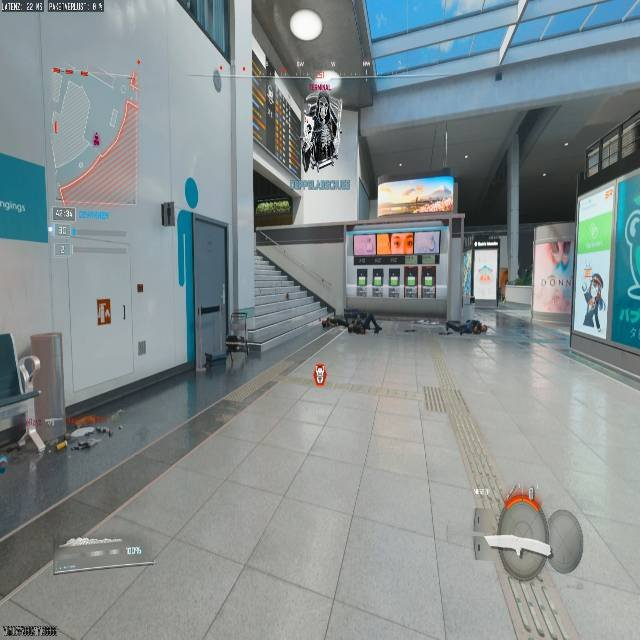head: (502, 484, 545, 512), (592, 272, 601, 282)
player: (487, 482, 584, 596), (582, 272, 604, 330)
